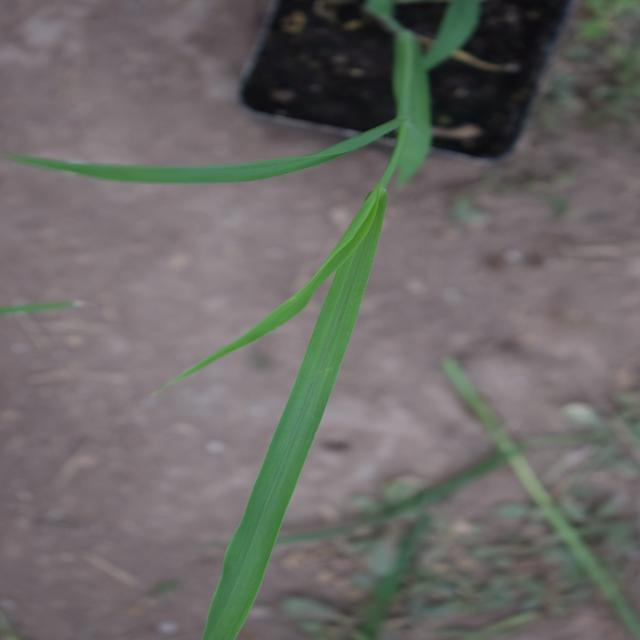crabgrass: (71, 200, 620, 590)
